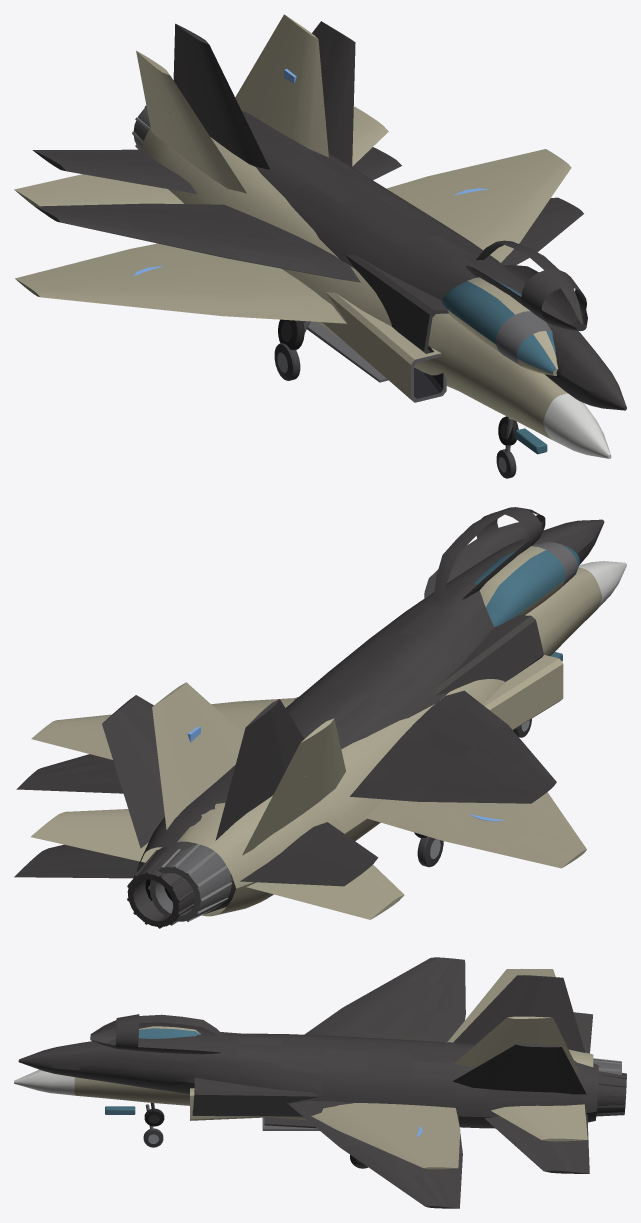
The model's file is jet__f_35a.glb.
3 renders of one model, top to bottom at view 1: azimuth 30°, elevation 25°; view 2: azimuth 150°, elevation 25°; view 3: azimuth 270°, elevation 25°, orthographic. The views are drawn at different scales.
Visible parts, largest first — view 1: Fuselage_Mesh, Wreck; view 2: Wreck, Fuselage_Mesh; view 3: Wreck, Fuselage_Mesh.
Part boxes in pixels (x1=…): Fuselage_Mesh: x1=14, y1=14, x2=611, y2=478; Wreck: x1=32, y1=21, x2=626, y2=445; Wreck: x1=14, y1=507, x2=604, y2=928; Fuselage_Mesh: x1=31, y1=541, x2=626, y2=922; Wreck: x1=18, y1=957, x2=626, y2=1208; Fuselage_Mesh: x1=14, y1=969, x2=621, y2=1169.
Size of what is drawn, in the model's own units: 10.98 by 4.65 by 15.86.
